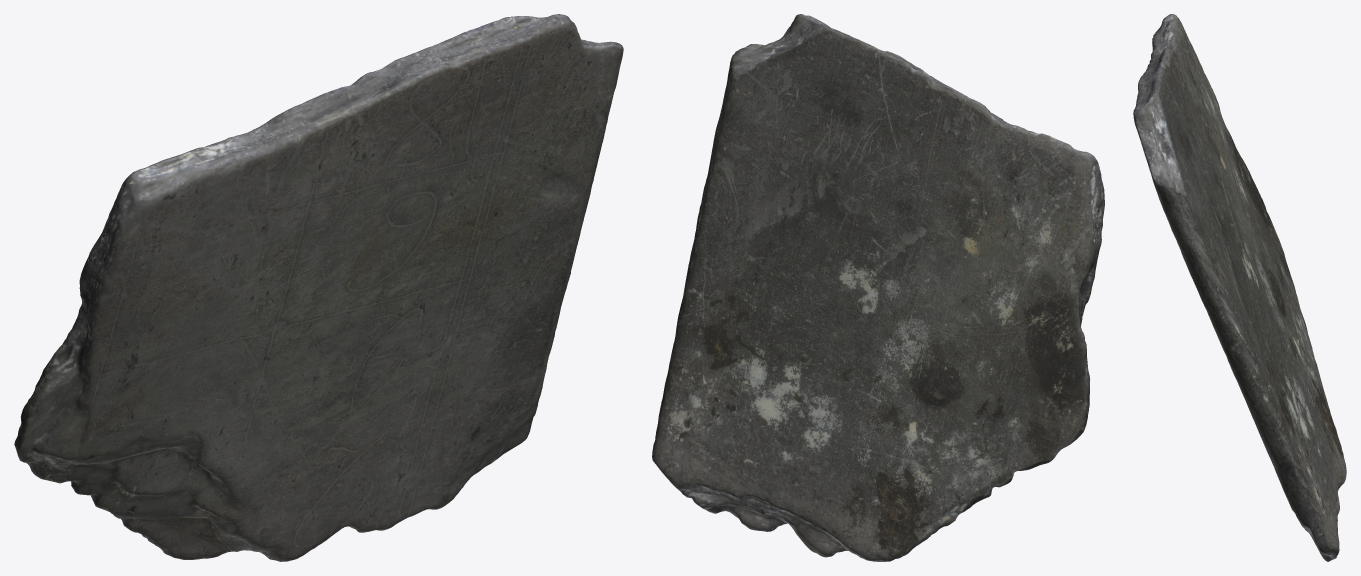
Rendered from slate_low.glb.
3 views of the same model, side by side, from view 1: azimuth 30°, elevation 25°; view 2: azimuth 150°, elevation 25°; view 3: azimuth 270°, elevation 25° (orthographic). The views are drawn at different scales.
Visible parts, largest first — view 1: slate.001; view 2: slate.001; view 3: slate.001.
Part boxes in pixels (x1,y1,x2,y2): slate.001: (14,14,623,561); slate.001: (652,14,1104,561); slate.001: (1133,14,1346,561).
Bounding box in the file's own units: 2.03 × 2.13 × 0.8844.
1 material, 1 textured.
